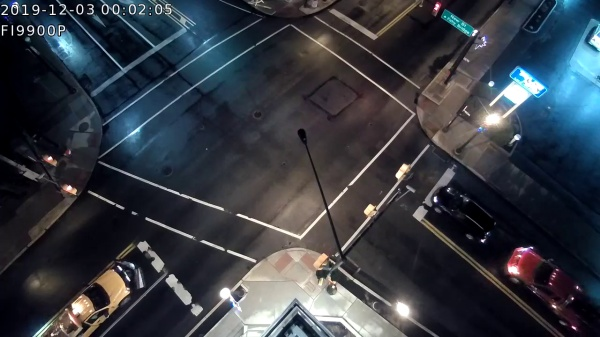car: (49, 251, 154, 337), (504, 240, 596, 337), (419, 182, 494, 238)
